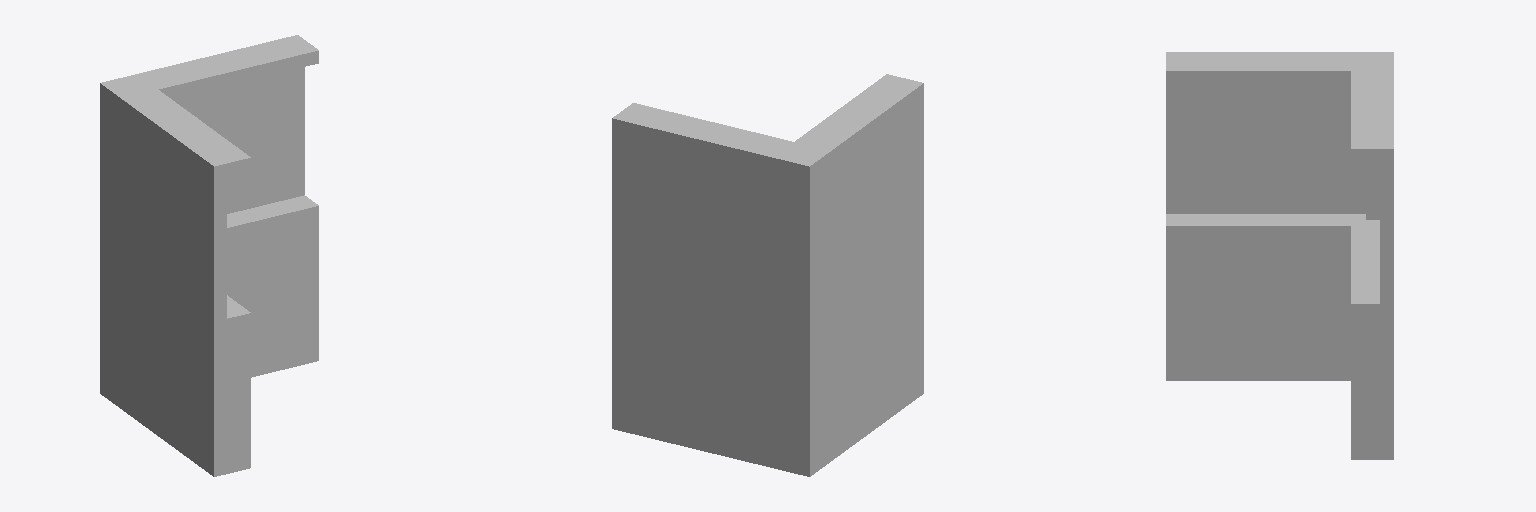
File: 3D Voxel Office Pack-116.obj
3 renders of one model, left to right at view 1: azimuth 30°, elevation 25°; view 2: azimuth 150°, elevation 25°; view 3: azimuth 270°, elevation 25°, orthographic.
Parts seen in each view (by area): view 1: object 1; view 2: object 1; view 3: object 1.
Part boxes in pixels (bbox=[...]): object 1: bbox=[100, 35, 318, 476]; object 1: bbox=[612, 74, 923, 476]; object 1: bbox=[1166, 52, 1393, 459].
Size of the model in its own units: 1.6 by 2.4 by 1.6.